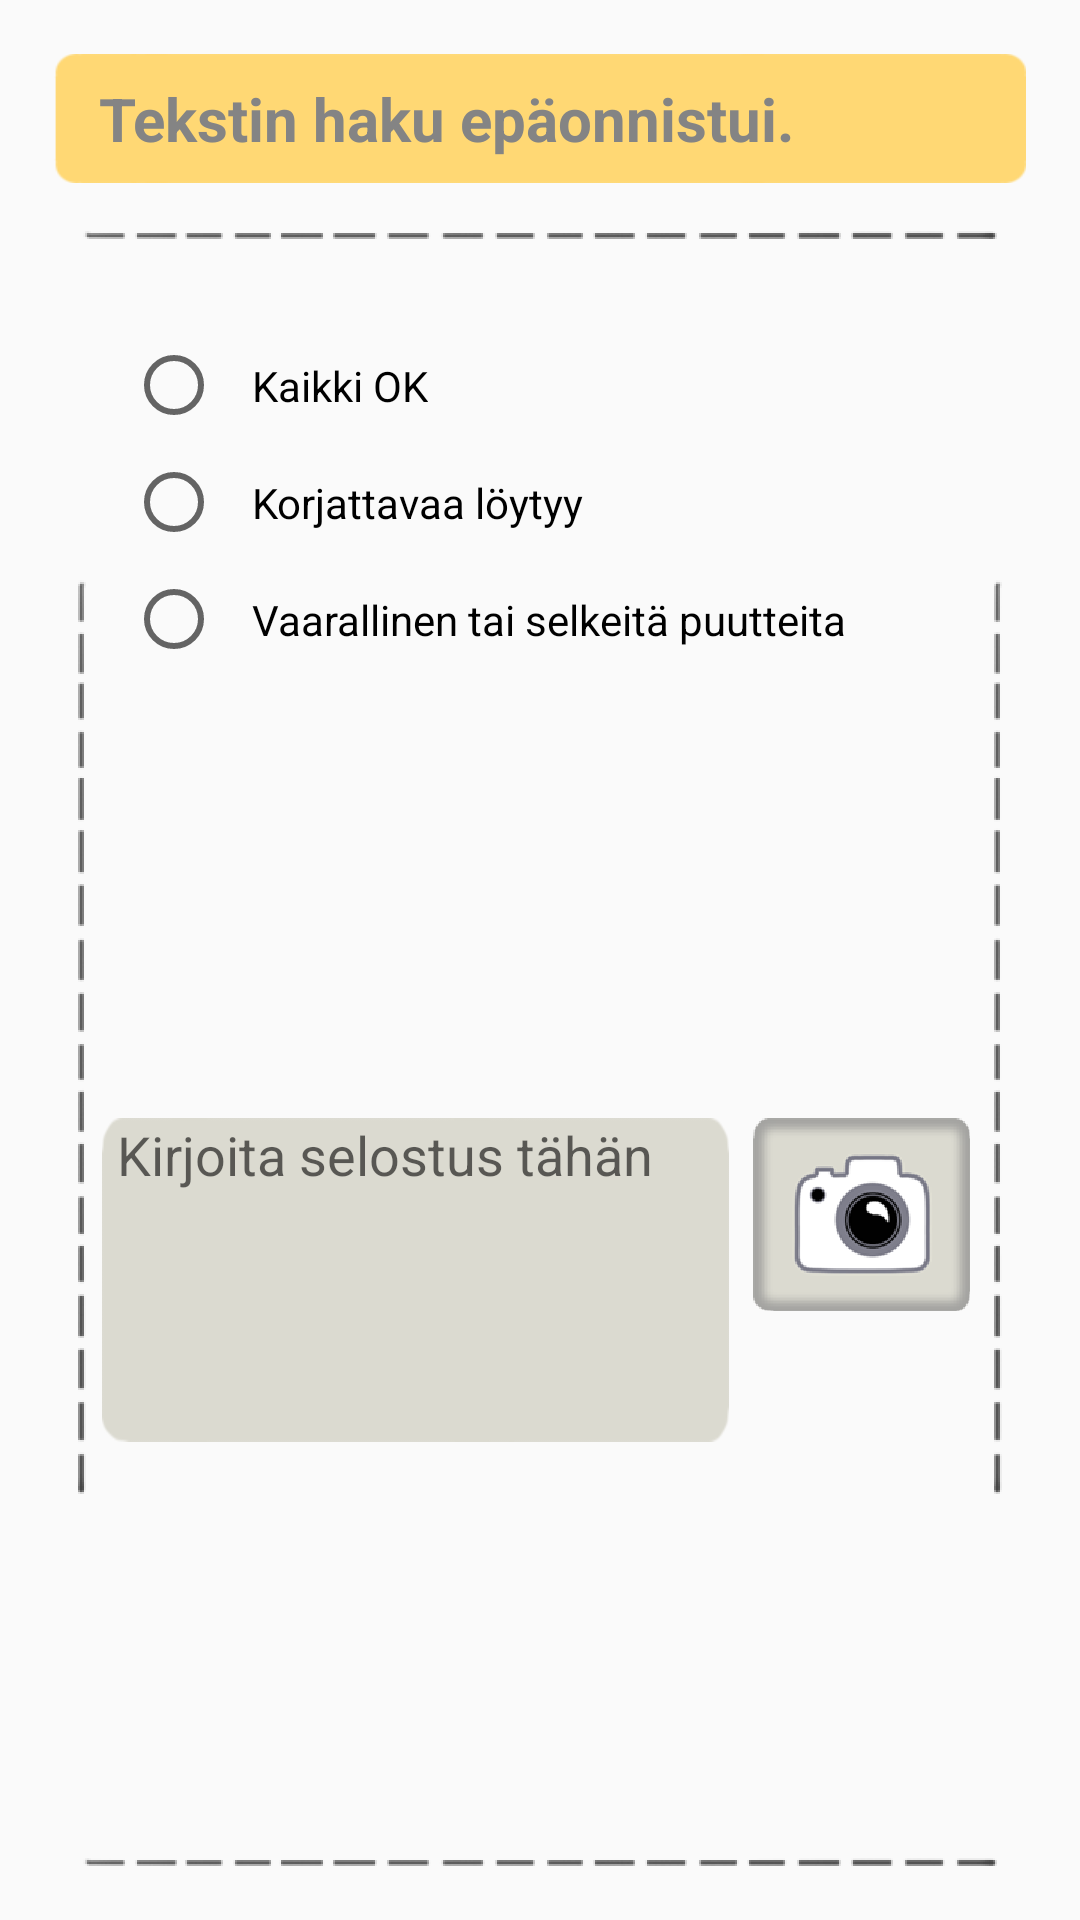

Screen size 1080x1920. Icon name, then its box in pixels as (x1, y1, x2, y2):
kameranappi: (753, 1118, 970, 1311)
